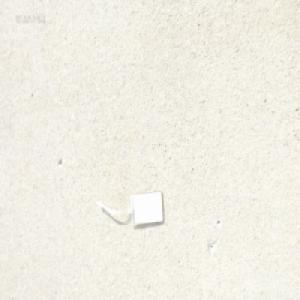LuggageTag: (95, 187, 166, 229)
